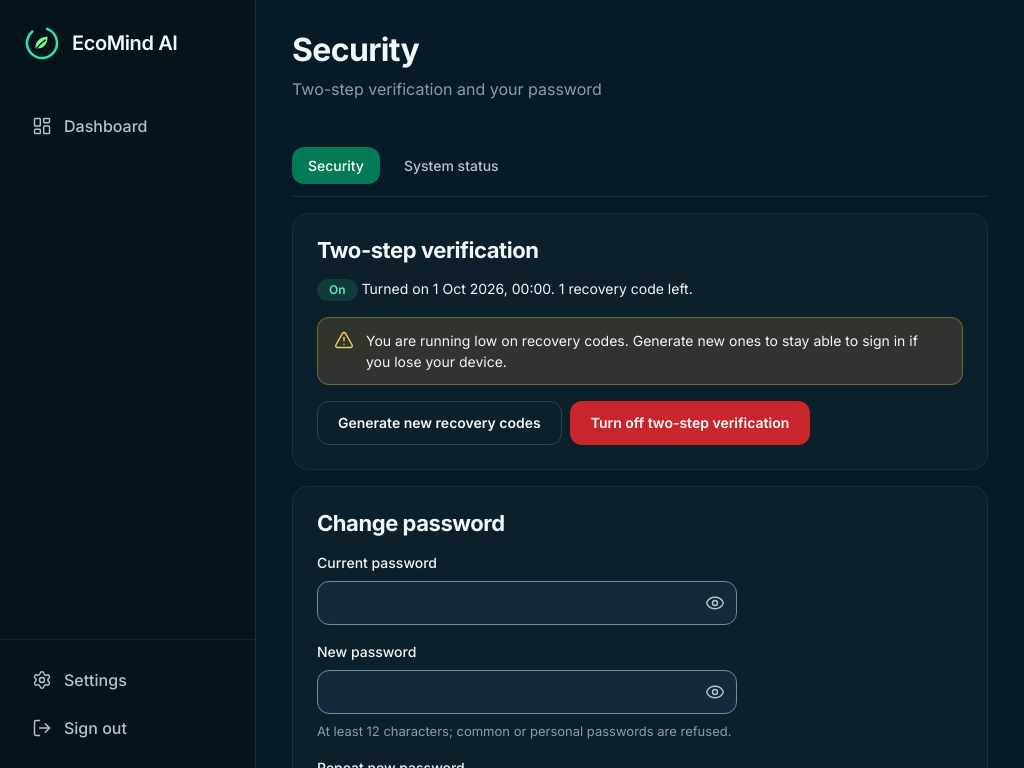
it: security page › turning off needs the password and a code, and reports a refusal
The width and height of the screenshot is (1024, 768).
Expected: the text "running low on recovery codes" is shown, [366, 332, 918, 370]
Click the button "Turn off two-step verification": (690, 423) [570, 401, 810, 445]
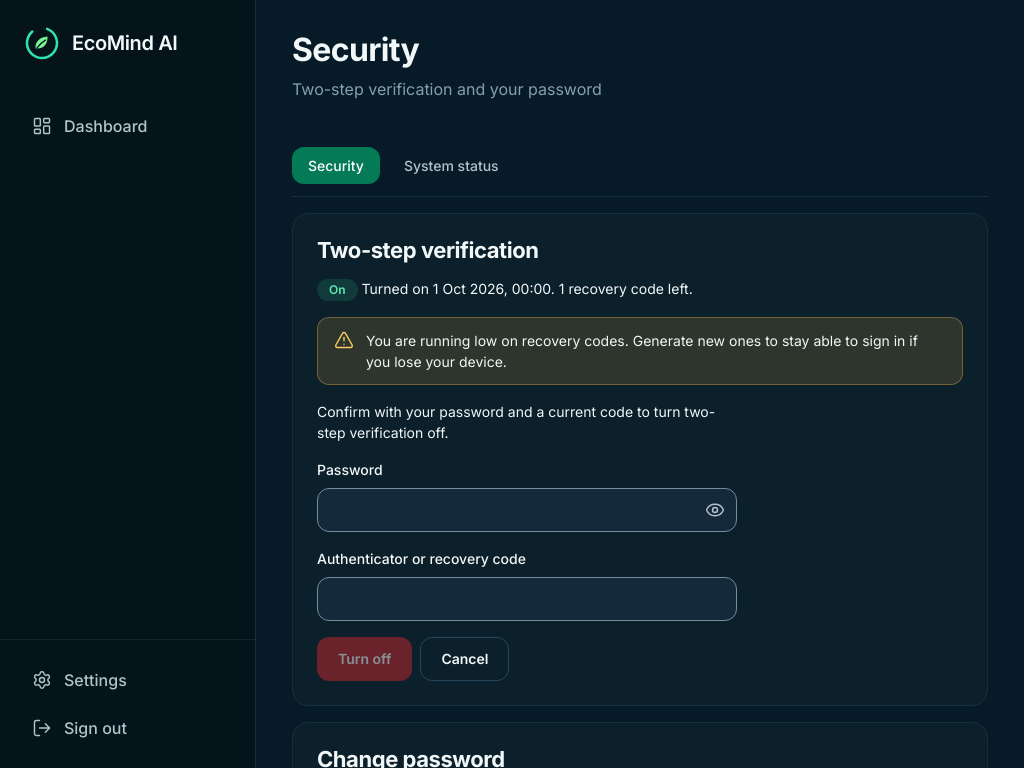
Now the button "Turn off" is disabled, box [317, 637, 412, 681]
In the password field labelled "Password": (527, 510) [317, 488, 737, 532], type "my password 123"
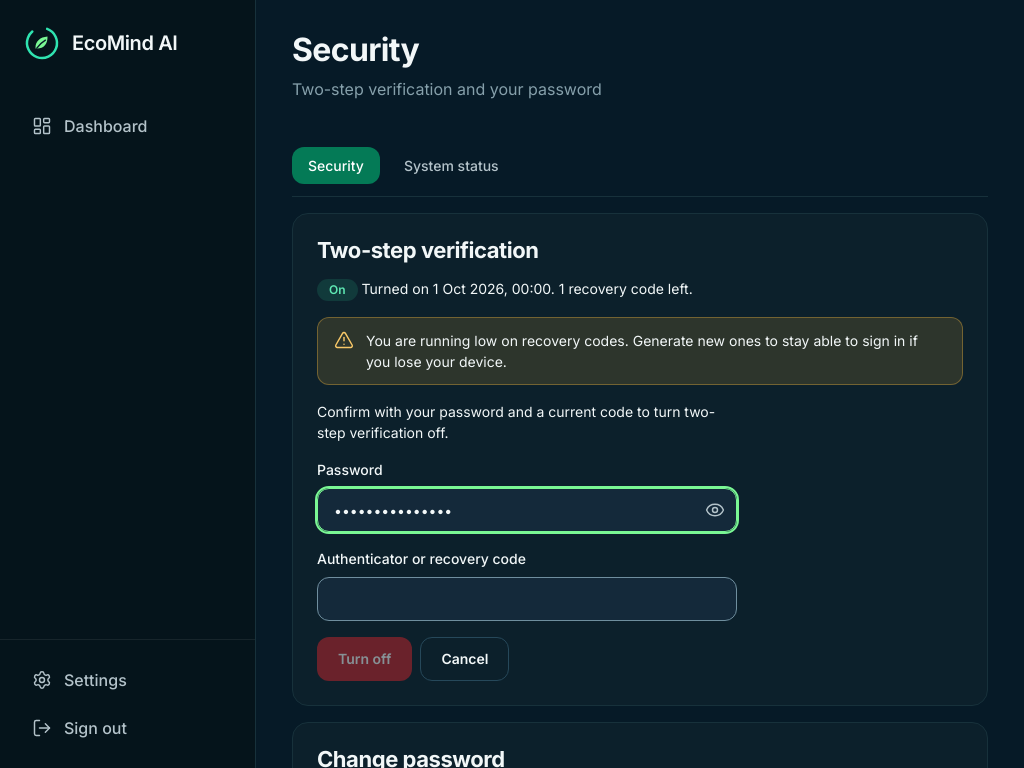
In the field labelled "Authenticator or recovery code": (527, 599) [317, 577, 737, 621], type "111111"
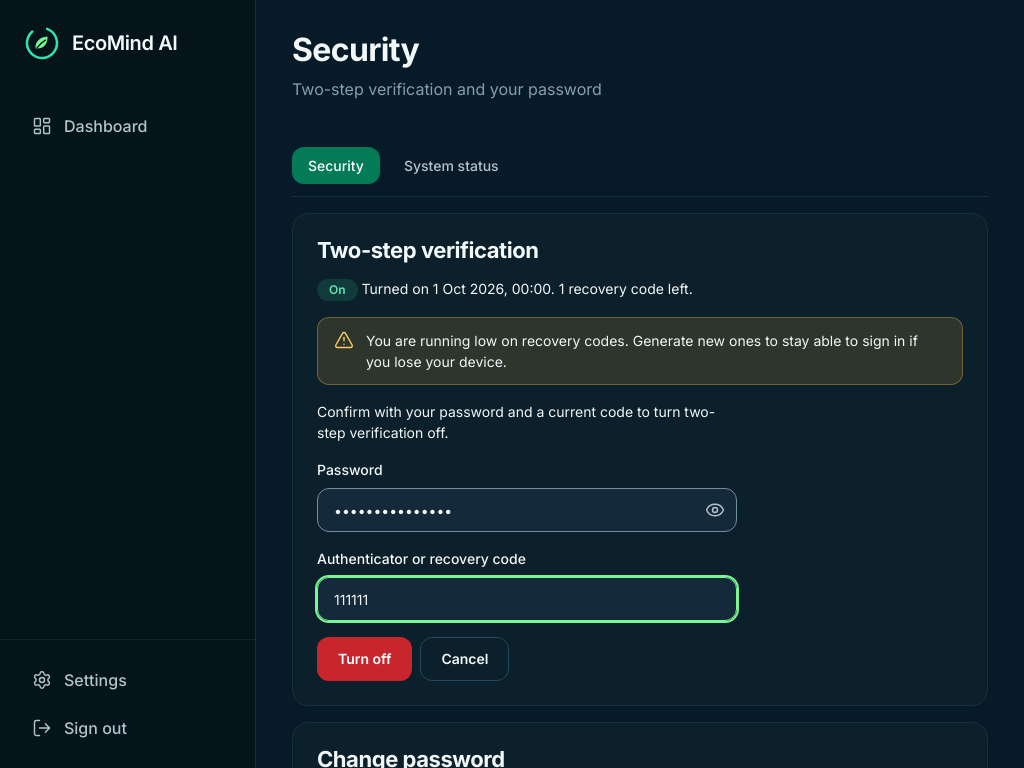
Click the button "Turn off": (365, 659) [317, 637, 412, 681]
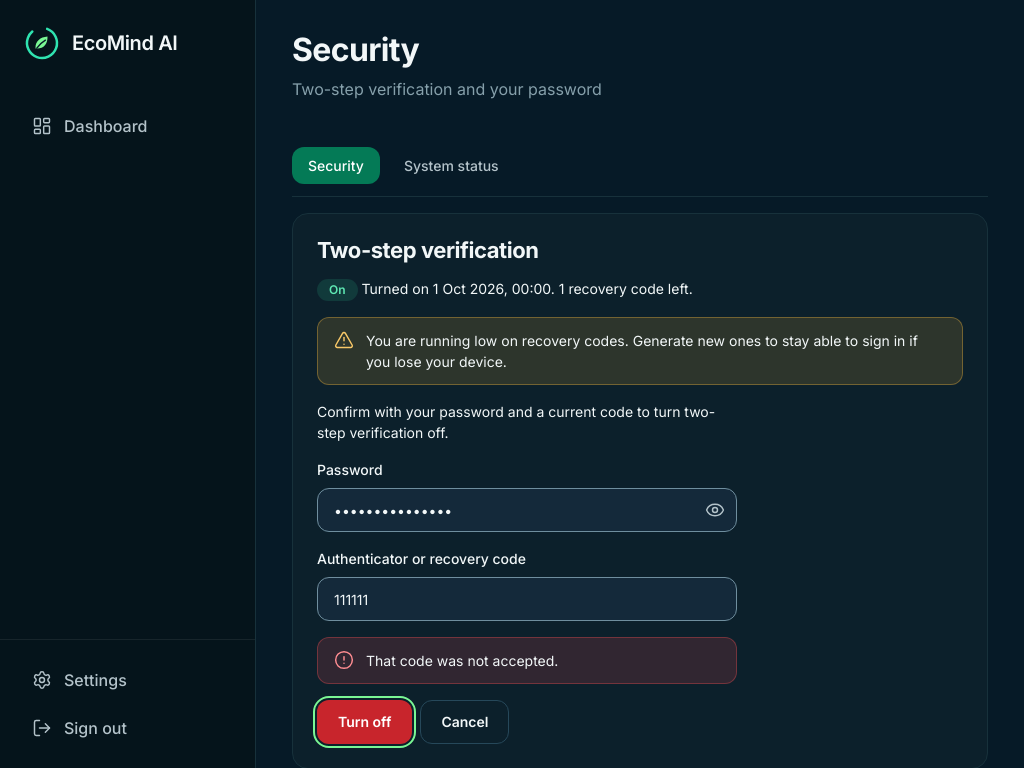
Now the text "That code was not accepted." is shown, box [366, 650, 558, 671]
